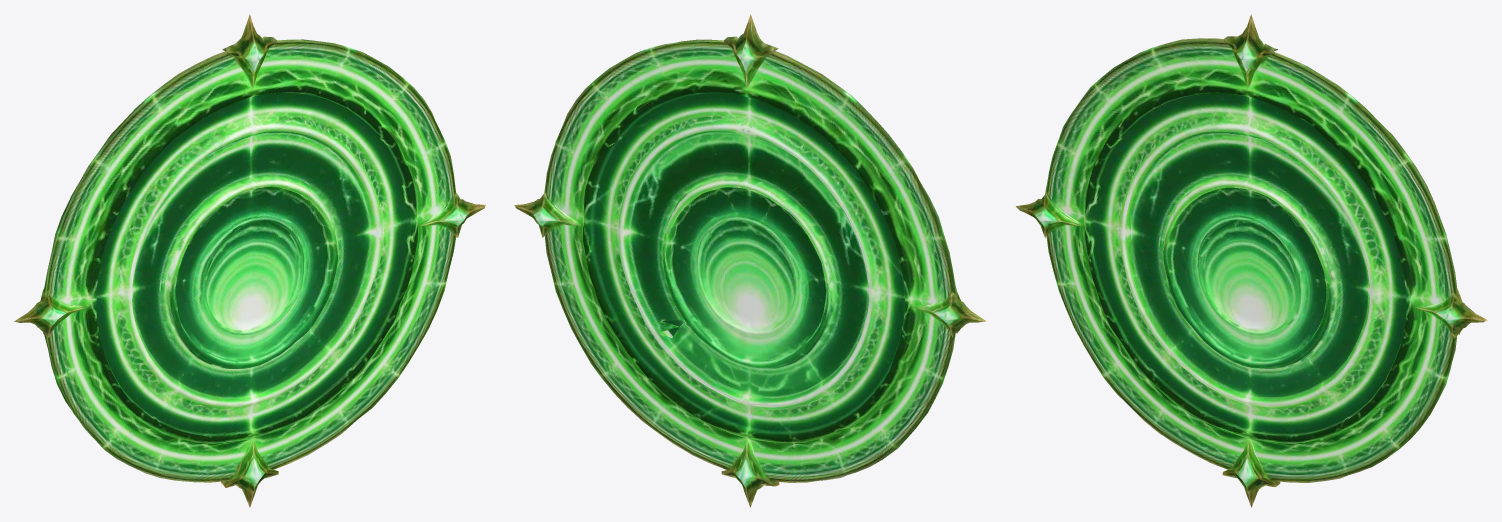
File: portal.glb
3 renders of one model, left to right at view 1: azimuth 30°, elevation 25°; view 2: azimuth 150°, elevation 25°; view 3: azimuth 330°, elevation 25°, orthographic.
Visible parts, largest first — view 1: mesh_node; view 2: mesh_node; view 3: mesh_node.
Boxes of the visible parts, x1,y1,x2,y2 form: mesh_node: [14, 14, 485, 507]; mesh_node: [514, 14, 985, 507]; mesh_node: [1016, 14, 1487, 507].
Bounding box in the file's own units: 1 × 1 × 0.0754.
Materials: 1 (1 with a texture image).
